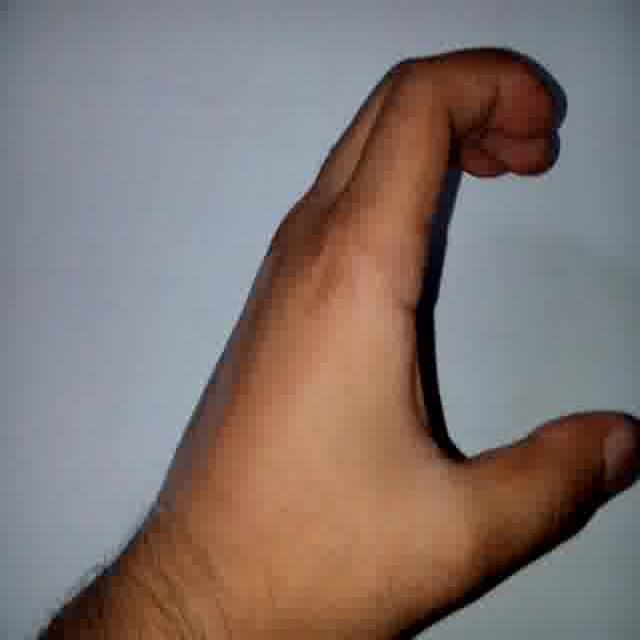Alphabet-C: (151, 31, 640, 618)
